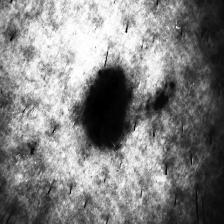Benign Marking or Mole: (85, 69, 132, 150)
